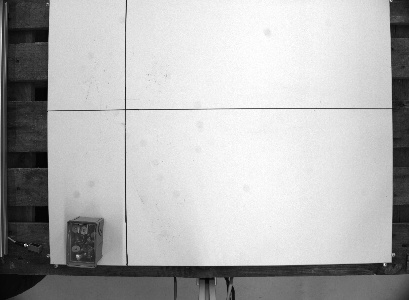kltxs: (63, 214, 106, 269)
